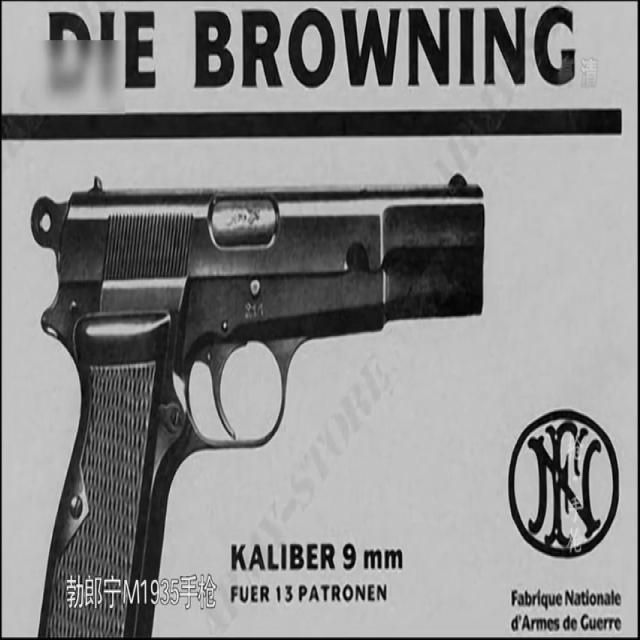Hand-Gun: (28, 169, 496, 640)
